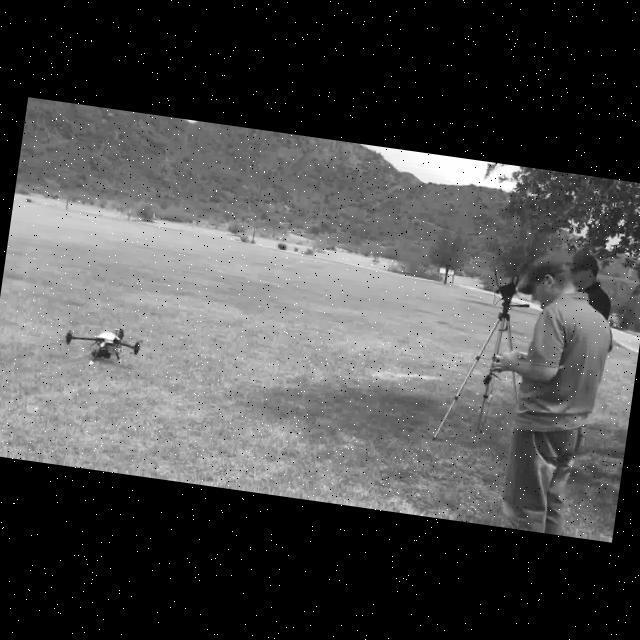Drons: (61, 320, 146, 370)
